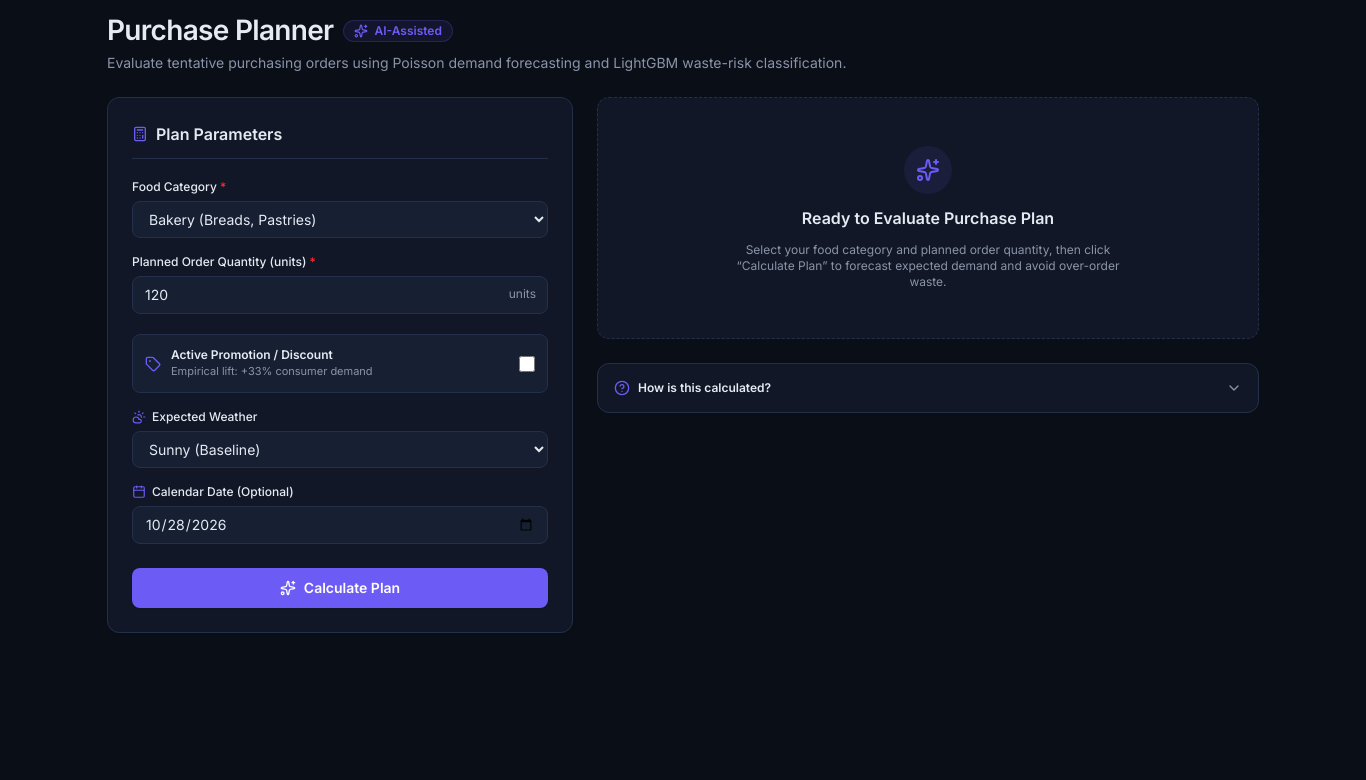
Test: AI Waste Predictions & Benchmark Insights (Task 3) › BusinessPurchasePlannerPage › displays general error alert with retry button when mutation throws
Click the button "Calculate Plan" at (340, 588), box left=132, top=568, right=548, bottom=608
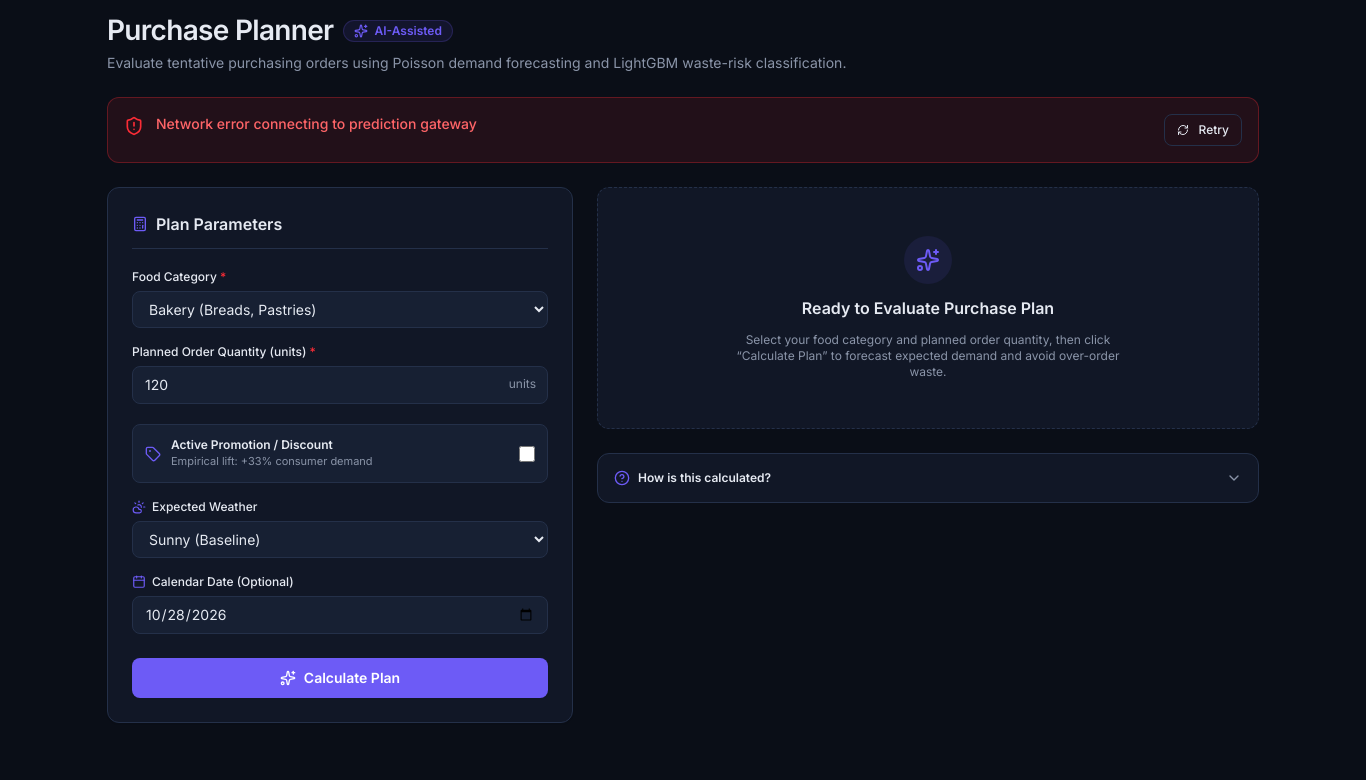
Expected: the message "Network error connecting to prediction gateway Retry" is shown, left=107, top=97, right=1259, bottom=163
Expected: the text "Network error connecting to prediction gateway" is shown, left=156, top=114, right=477, bottom=134
Expected: the button "Retry" is shown, left=1164, top=114, right=1242, bottom=146
